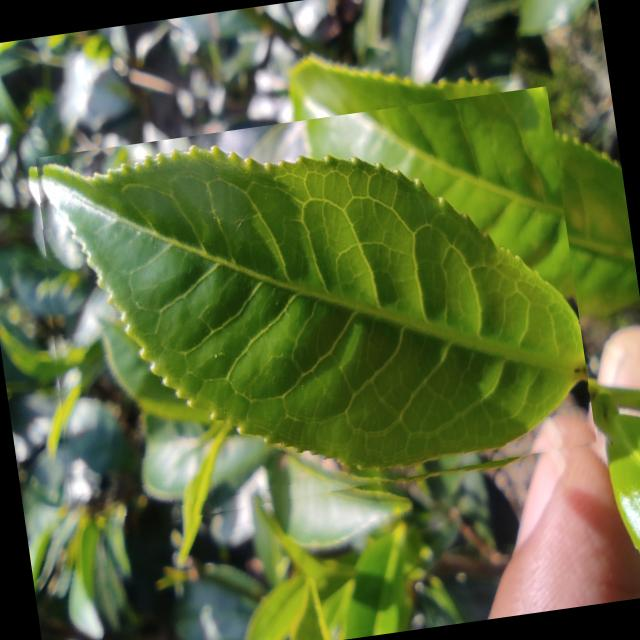Category B(2-4 days): (22, 85, 600, 538)
